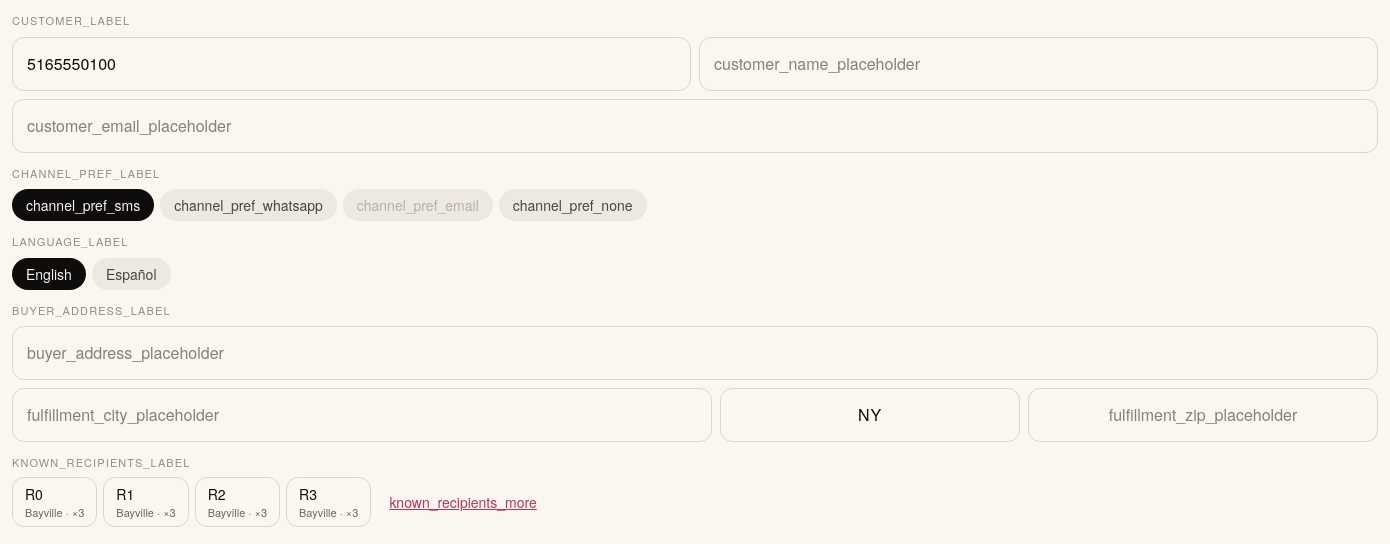
Test: CustomerBlock recipients › collapses a long list behind 'show more'
Check: the text "R3" is shown, box [299,484,317,504]
Check: the text "R4" is not shown
Click the button "known_recipients_more" at {"x": 463, "y": 502}, box [377,476,549,527]
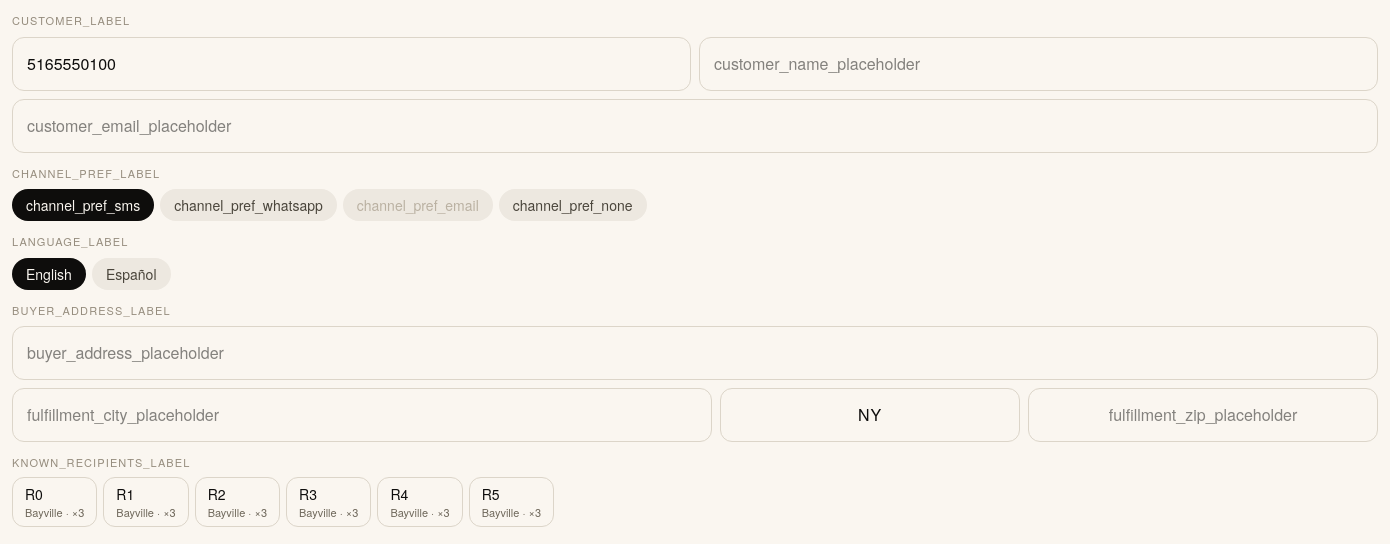
Check: the text "R5" is shown, box [482,484,500,504]
